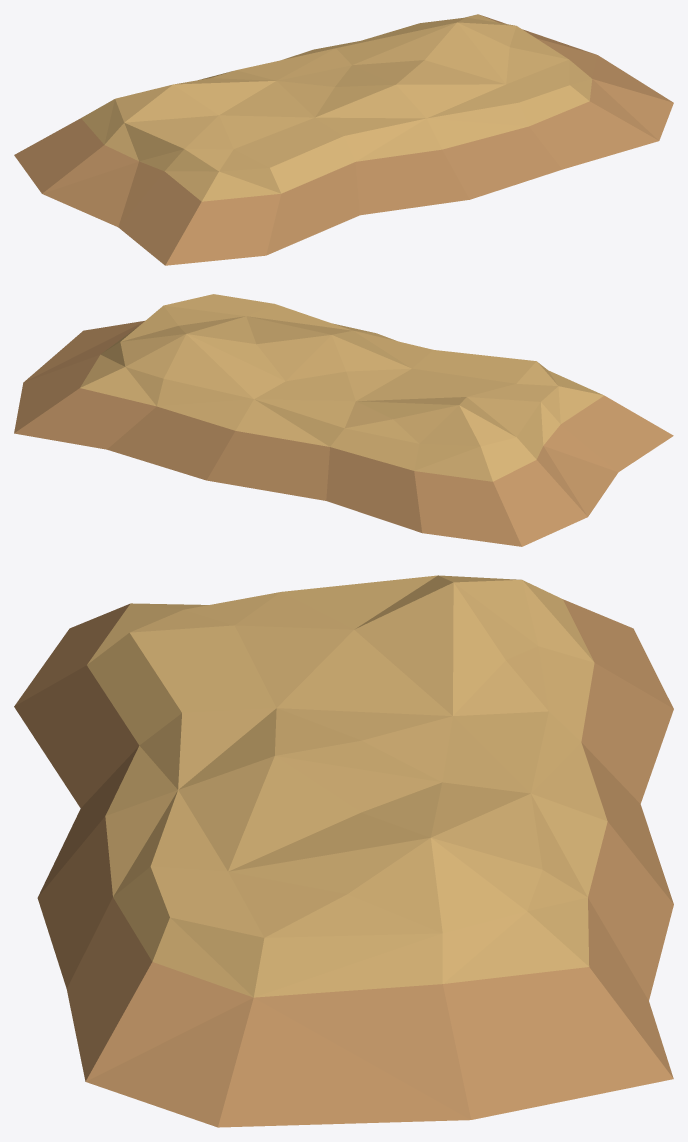
File: TB_D_Env_Mound_Big_A.FBX
3 views of the same model, one above another, from view 1: azimuth 30°, elevation 25°; view 2: azimuth 150°, elevation 25°; view 3: azimuth 270°, elevation 25° (orthographic). The views are drawn at different scales.
Visible parts, largest first — view 1: TB_D_Env_Mound_Big_A; view 2: TB_D_Env_Mound_Big_A; view 3: TB_D_Env_Mound_Big_A.
Part boxes in pixels (x1,y1,x2,y2): TB_D_Env_Mound_Big_A: (14, 14, 673, 265); TB_D_Env_Mound_Big_A: (14, 294, 673, 546); TB_D_Env_Mound_Big_A: (14, 575, 673, 1127).
Bounding box in the file's own units: 25.17 × 3.34 × 13.6.
